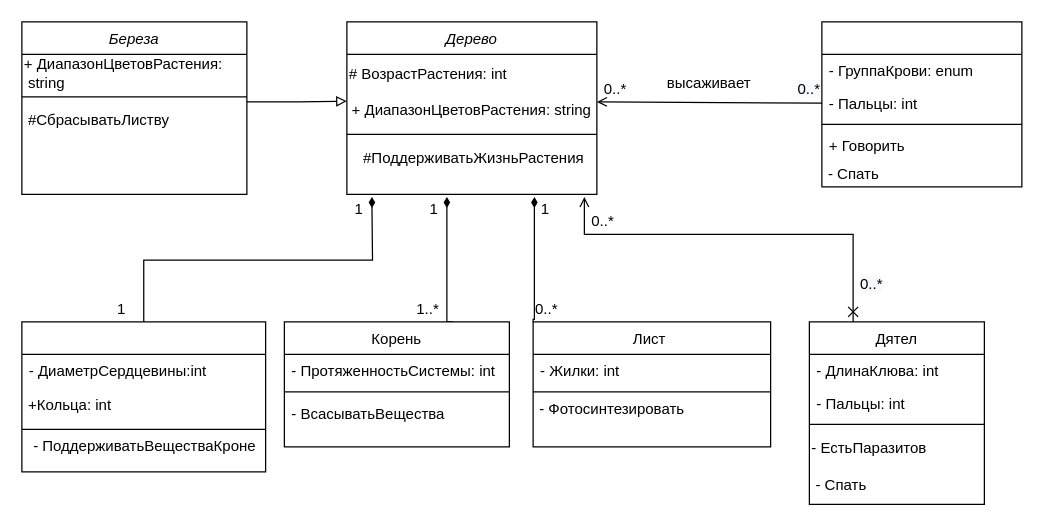
Image size: 1044x526. Some labels were removed from this diagram. The box of each missing label's shape, as (x1, y1, x2, y2) in pixels:
Ствол: (21, 321, 266, 472)
Человек: (821, 21, 1022, 187)
